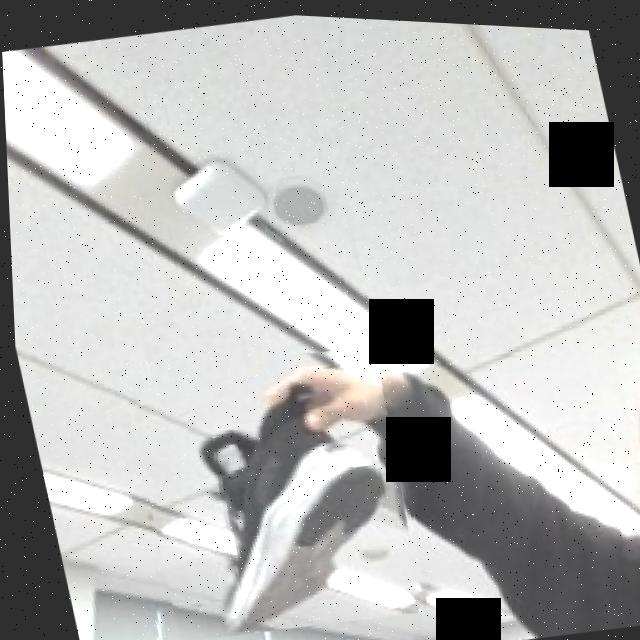shoe: (115, 322, 428, 640)
